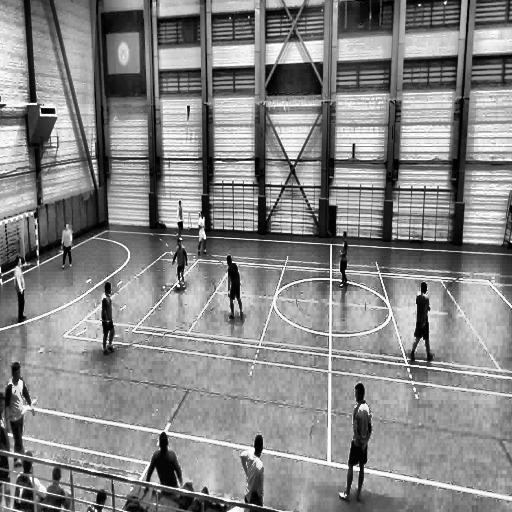ball: (176, 282, 181, 292)
player: (334, 379, 370, 502), (4, 363, 34, 463), (241, 435, 264, 512), (409, 282, 431, 360), (224, 252, 243, 320), (101, 282, 116, 354), (11, 255, 27, 322), (173, 235, 188, 289), (61, 223, 73, 270), (340, 232, 348, 286), (197, 212, 207, 254), (177, 201, 184, 232)
